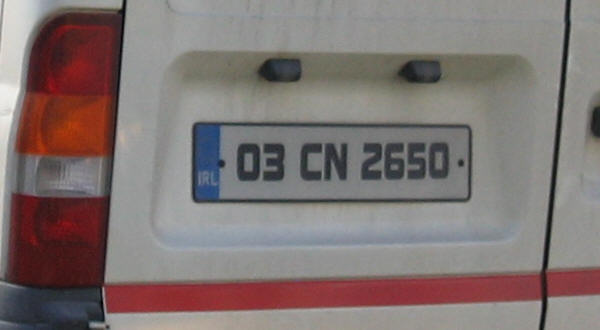license_plate: (190, 121, 474, 203)
